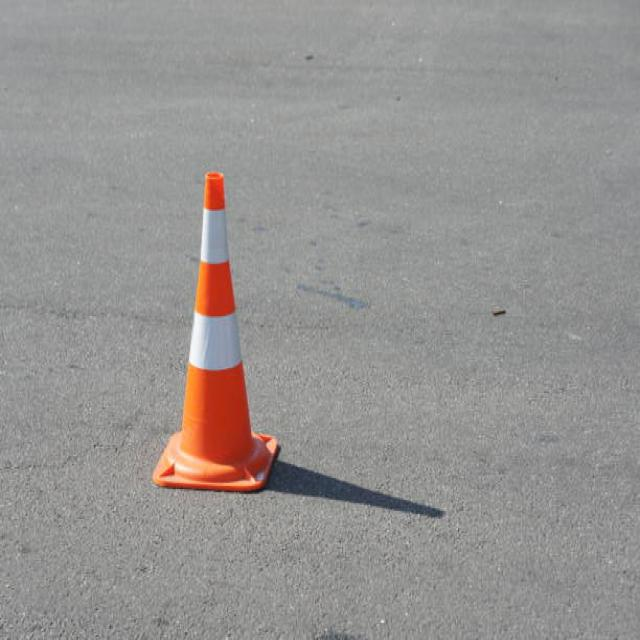Traffic Cone: (130, 128, 301, 522)
